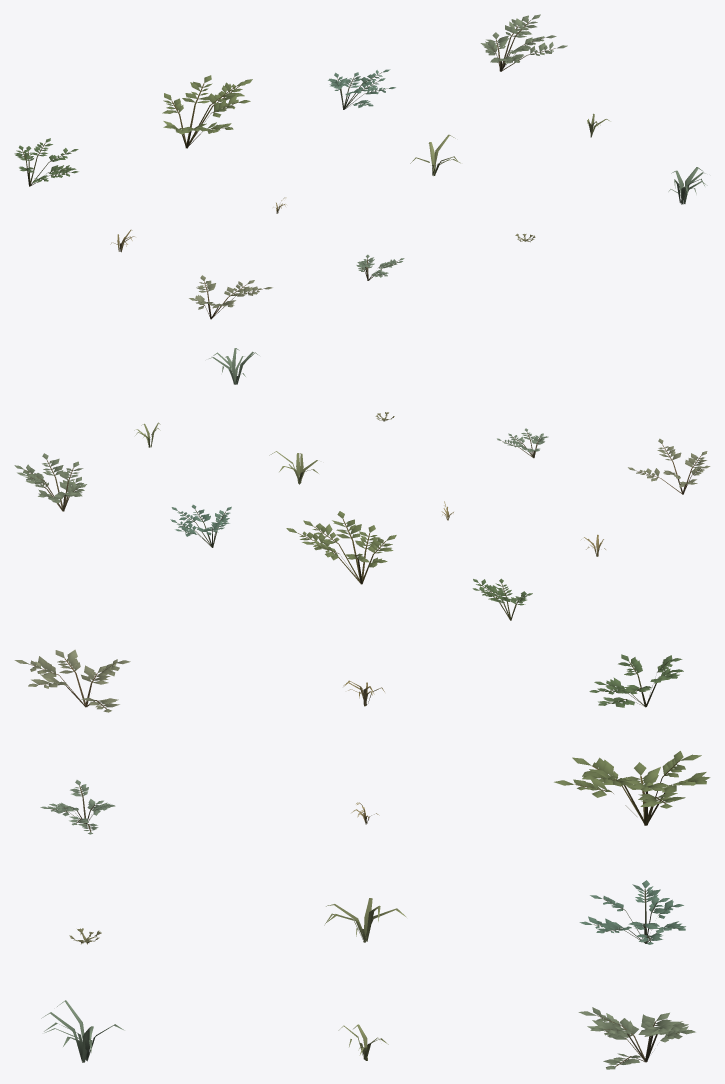
The model's file is specimens.glb.
The picture shows the model from 3 angles, top to bottom: view 1: azimuth 30°, elevation 25°; view 2: azimuth 150°, elevation 25°; view 3: azimuth 270°, elevation 25°; orthographic projection. The views are drawn at different scales.
Parts seen in each view (by area): view 1: hazel-2_L0, myrtle-2_L0, hazel-1_L0, myrtle-1_L0, salt-1_L0, shore-1_L0; view 2: hazel-2_L0, myrtle-2_L0, salt-1_L0, myrtle-1_L0, hazel-1_L0, salt-2_L0, shore-1_L0; view 3: hazel-2_L0, myrtle-2_L0, salt-1_L0, myrtle-1_L0, hazel-1_L0, salt-2_L0, shore-1_L0, reed-1_L0.
Part boxes in pixels (x1=…): hazel-2_L0: x1=162, y1=75, x2=252, y2=148; myrtle-2_L0: x1=480, y1=14, x2=567, y2=71; hazel-1_L0: x1=14, y1=138, x2=78, y2=186; myrtle-1_L0: x1=328, y1=69, x2=395, y2=109; salt-1_L0: x1=189, y1=275, x2=272, y2=319; shore-1_L0: x1=668, y1=167, x2=707, y2=204; hazel-2_L0: x1=286, y1=511, x2=396, y2=584; myrtle-2_L0: x1=14, y1=453, x2=86, y2=511; salt-1_L0: x1=628, y1=438, x2=710, y2=494; myrtle-1_L0: x1=170, y1=504, x2=231, y2=547; hazel-1_L0: x1=472, y1=578, x2=532, y2=620; salt-2_L0: x1=497, y1=428, x2=548, y2=458; shore-1_L0: x1=209, y1=348, x2=259, y2=384; hazel-2_L0: x1=554, y1=751, x2=710, y2=825; myrtle-2_L0: x1=578, y1=1007, x2=695, y2=1069; salt-1_L0: x1=14, y1=649, x2=130, y2=712; myrtle-1_L0: x1=579, y1=880, x2=685, y2=944; hazel-1_L0: x1=589, y1=654, x2=683, y2=707; salt-2_L0: x1=40, y1=780, x2=115, y2=834; shore-1_L0: x1=41, y1=1000, x2=124, y2=1062; reed-1_L0: x1=324, y1=898, x2=406, y2=942.
Bounding box in the file's own units: 8.68 × 0.7953 × 6.22.
